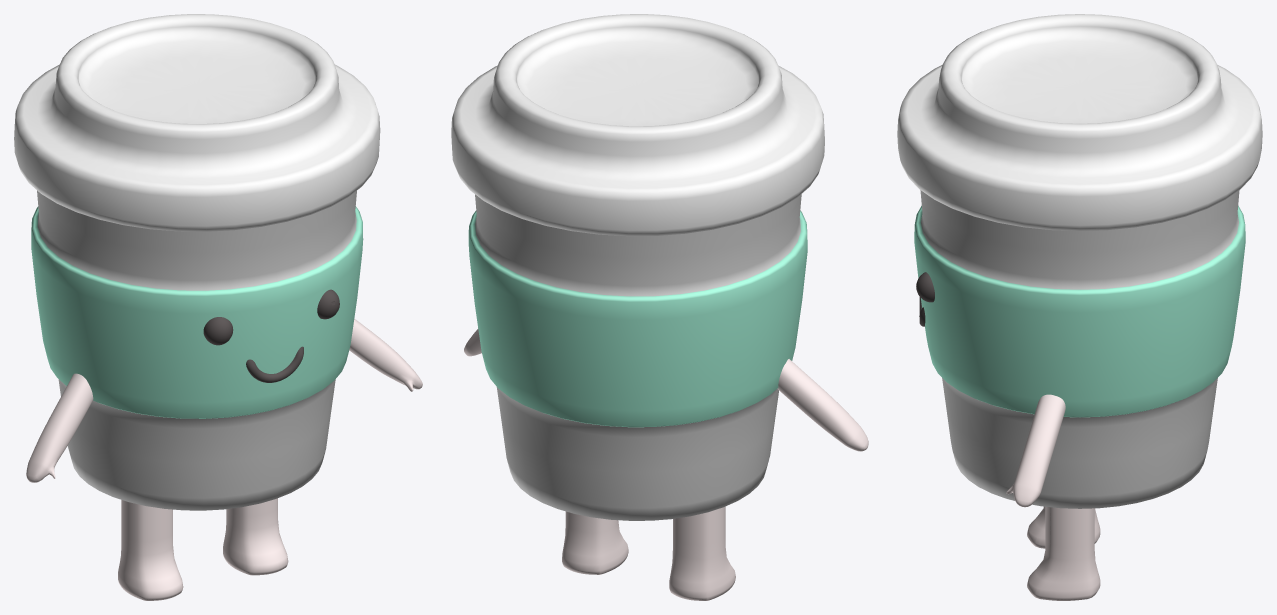
Rendered from cup.glb.
3 views of the same model, side by side, from view 1: azimuth 30°, elevation 25°; view 2: azimuth 150°, elevation 25°; view 3: azimuth 270°, elevation 25° (orthographic). The views are drawn at different scales.
Parts seen in each view (by area): view 1: TogoCup; view 2: TogoCup; view 3: TogoCup.
Boxes of the visible parts, <box> form: TogoCup: <box>14,14,422,600</box>; TogoCup: <box>451,14,868,600</box>; TogoCup: <box>897,14,1262,600</box>.
Bounding box in the file's own units: 0.0349 × 0.0423 × 0.0282.
Materials: 1 (1 with a texture image).
